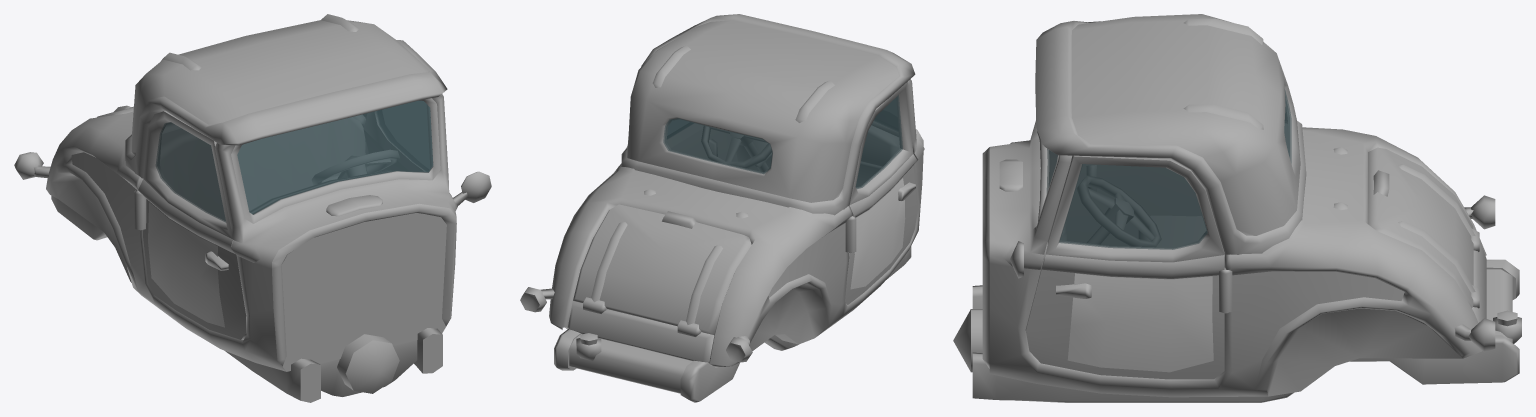
File: Body_Roadster.fbx
The picture shows the model from 3 angles, left to right: view 1: azimuth 30°, elevation 25°; view 2: azimuth 150°, elevation 25°; view 3: azimuth 270°, elevation 25°; orthographic projection. The views are drawn at different scales.
Visible parts, largest first — view 1: Roadster_Body_Mesh, Roadster_Roof_Mesh, Roadster_Body_Window_Mesh, Roadster_Door_Right_Mesh, Roadster_Door_Right_Decal_Mesh, Roadster_Door_Right_Window_Mesh, Roadster_Door_Left_Window_Mesh, Roadster_SteerWheel_Mesh, Roadster_Door_Left_Mesh; view 2: Roadster_Body_Mesh, Roadster_Roof_Mesh, Roadster_Door_Right_Mesh, Roadster_Roof_Window_Mesh, Roadster_Door_Right_Decal_Mesh, Roadster_Door_Right_Window_Mesh, Roadster_Door_Left_Mesh, Roadster_SteerWheel_Mesh, Roadster_Body_Window_Mesh; view 3: Roadster_Body_Mesh, Roadster_Roof_Mesh, Roadster_Door_Left_Mesh, Roadster_Door_Left_Decal_Mesh, Roadster_Door_Left_Window_Mesh, Roadster_Door_Right_Mesh, Roadster_SteerWheel_Mesh.
Part boxes in pixels (bbox=[...]): Roadster_Body_Mesh: bbox=[14, 94, 491, 402]; Roadster_Roof_Mesh: bbox=[125, 14, 447, 178]; Roadster_Body_Window_Mesh: bbox=[237, 100, 433, 214]; Roadster_Door_Right_Mesh: bbox=[138, 111, 246, 339]; Roadster_Door_Right_Decal_Mesh: bbox=[148, 202, 224, 327]; Roadster_Door_Right_Window_Mesh: bbox=[155, 122, 226, 222]; Roadster_Door_Left_Window_Mesh: bbox=[377, 101, 429, 170]; Roadster_SteerWheel_Mesh: bbox=[312, 150, 399, 184]; Roadster_Door_Left_Mesh: bbox=[364, 105, 432, 171]; Roadster_Body_Mesh: bbox=[520, 79, 924, 402]; Roadster_Roof_Mesh: bbox=[621, 14, 915, 215]; Roadster_Door_Right_Mesh: bbox=[845, 81, 917, 305]; Roadster_Roof_Window_Mesh: bbox=[663, 118, 772, 174]; Roadster_Door_Right_Decal_Mesh: bbox=[850, 178, 905, 289]; Roadster_Door_Right_Window_Mesh: bbox=[855, 95, 902, 188]; Roadster_Door_Left_Mesh: bbox=[666, 123, 737, 161]; Roadster_SteerWheel_Mesh: bbox=[701, 126, 771, 171]; Roadster_Body_Window_Mesh: bbox=[874, 98, 897, 130]; Roadster_Body_Mesh: bbox=[953, 120, 1521, 402]; Roadster_Roof_Mesh: bbox=[1035, 14, 1306, 254]; Roadster_Door_Left_Mesh: bbox=[1025, 155, 1224, 379]; Roadster_Door_Left_Decal_Mesh: bbox=[1067, 273, 1213, 372]; Roadster_Door_Left_Window_Mesh: bbox=[1059, 164, 1207, 249]; Roadster_Door_Right_Mesh: bbox=[1067, 164, 1201, 246]; Roadster_SteerWheel_Mesh: bbox=[1077, 176, 1161, 246].
Bounding box in the file's own units: 168 × 170 × 278.
